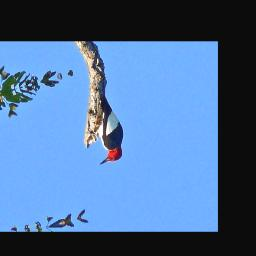Woodpecker: (74, 76, 139, 173)
